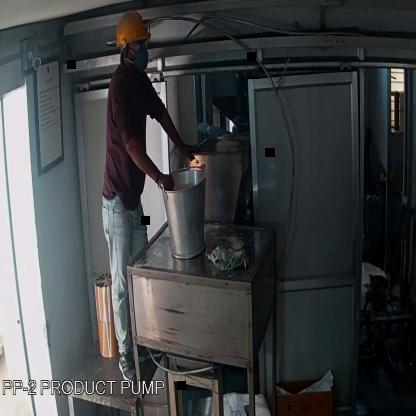helmet: (115, 7, 158, 53)
